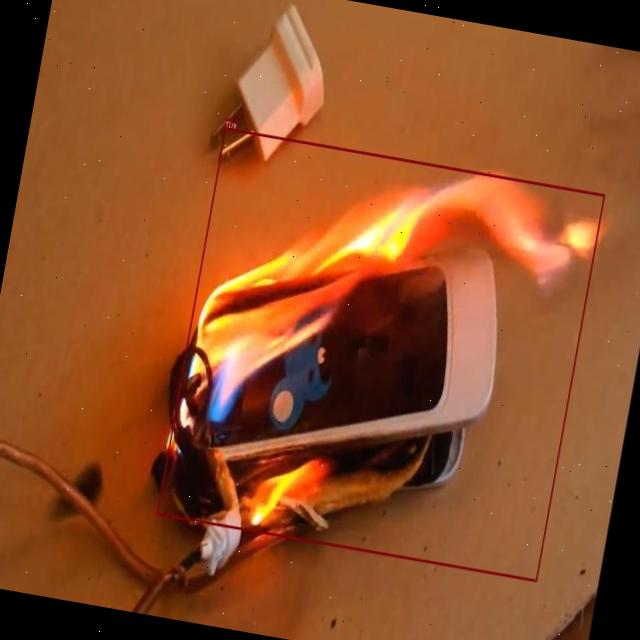fire: (157, 126, 606, 582)
